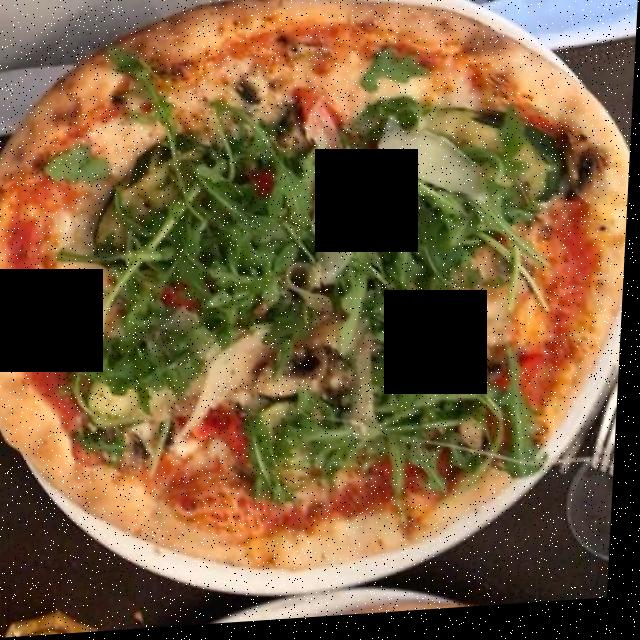pizza-margherita-baked: (0, 18, 617, 565)
salad-rocket: (101, 115, 495, 505)
